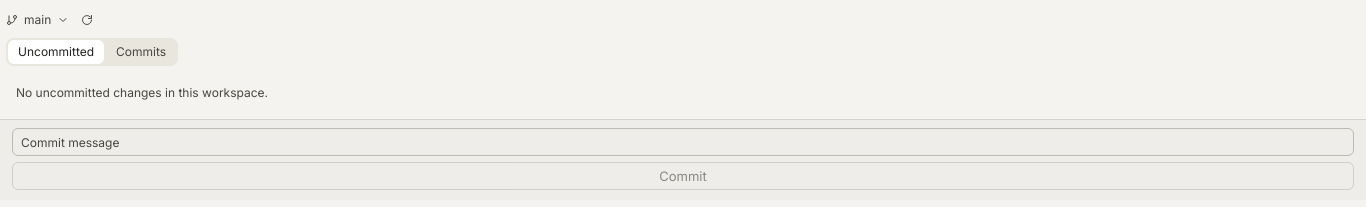
it: ChangesSurface › says the branch sits at its base when the answer carries no work
Click the button "Commits" at [141, 52], box [106,40,176,64]
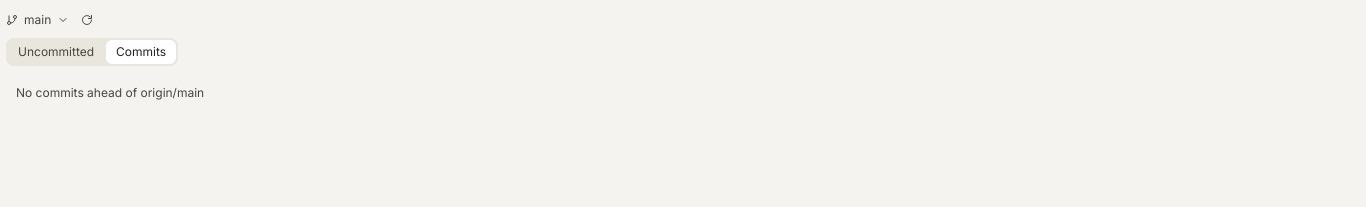
Expected: the text with class "workspace-commits-state" reads "No commits ahead of origin/main", [16,85,204,100]
